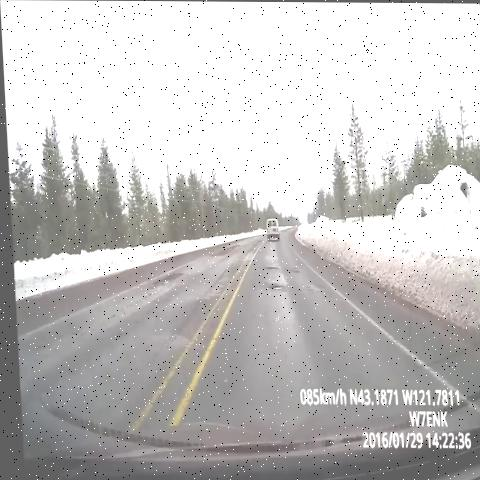pothole: (143, 265, 182, 302), (203, 243, 241, 270), (263, 277, 285, 297), (256, 261, 280, 279)
